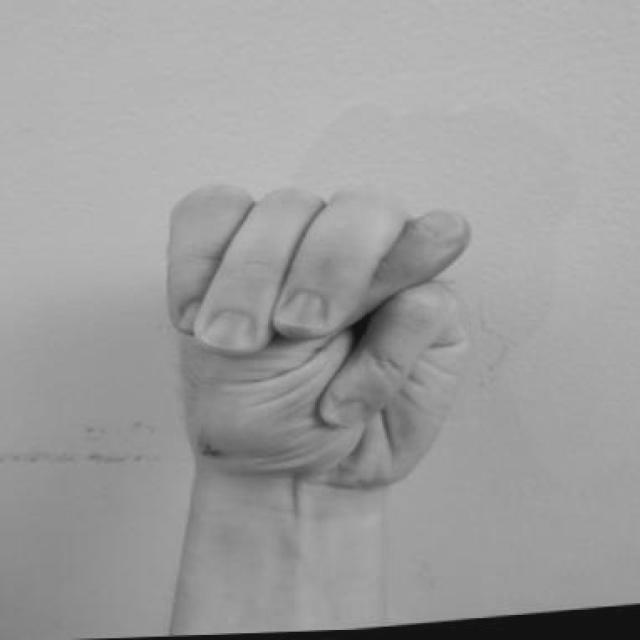M: (152, 173, 490, 516)
